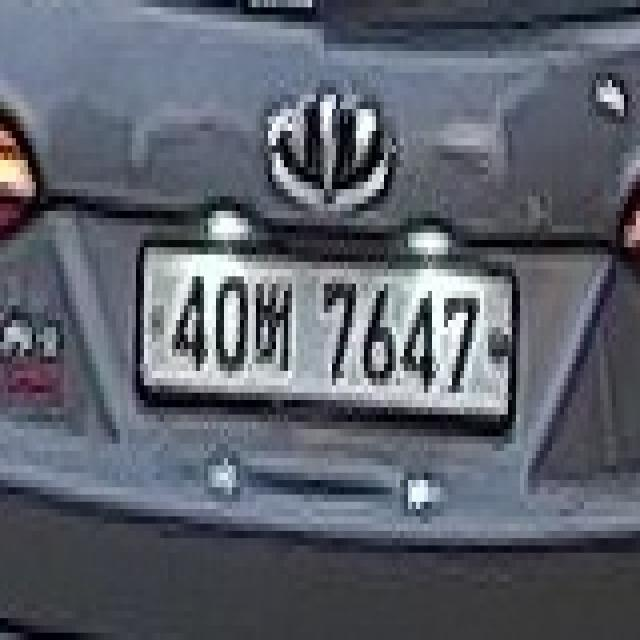0: (212, 269, 248, 378)
4: (396, 284, 440, 392), (168, 269, 212, 371)
6: (360, 276, 400, 386)
7: (440, 291, 484, 400), (316, 269, 356, 386)
beo: (252, 284, 296, 371)
license_plate: (136, 226, 520, 444)
